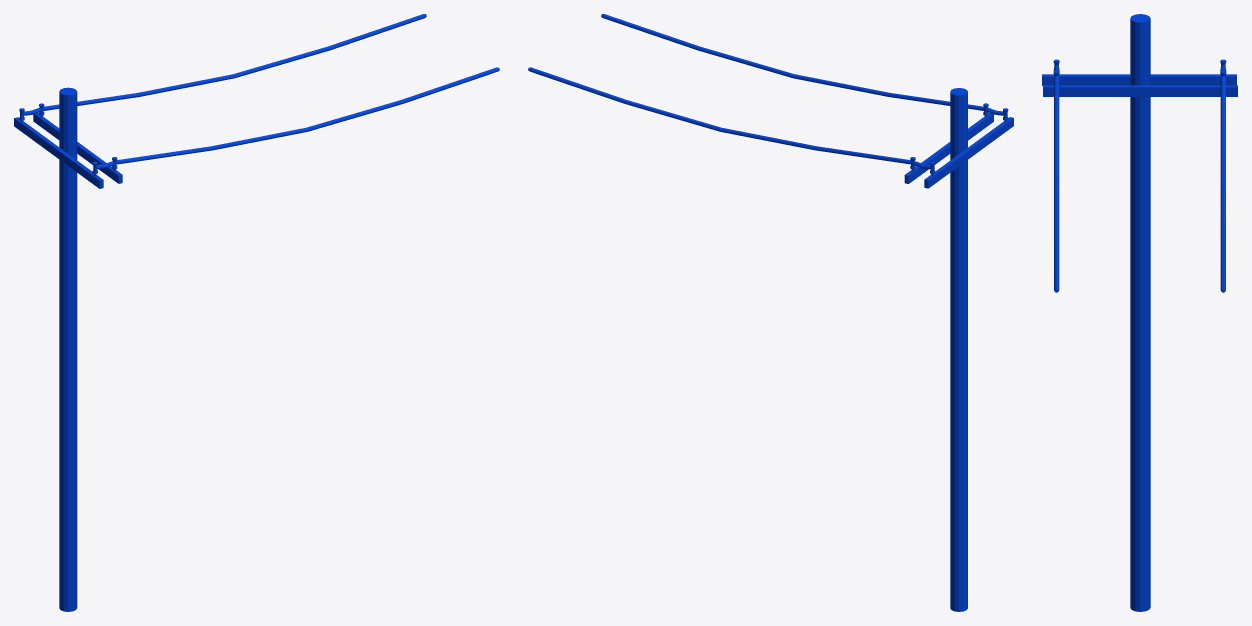
The model's file is Envi_TelePole_wWire_v02.fbx.
3 renders of one model, left to right at view 1: azimuth 30°, elevation 25°; view 2: azimuth 150°, elevation 25°; view 3: azimuth 270°, elevation 25°, orthographic. The views are drawn at different scales.
Visible parts, largest first — view 1: Truck_Ex_Set01_Telephone_Pole1, Truck_Ex_Set01_Wire_01, Truck_Ex_Set01_Wire_02, Truck_Ex_Set01_Telephone_Pole_Plank_2, Truck_Ex_Set01_Telephone_Pole_Plank_1; view 2: Truck_Ex_Set01_Telephone_Pole1, Truck_Ex_Set01_Wire_02, Truck_Ex_Set01_Wire_01, Truck_Ex_Set01_Telephone_Pole_Plank_2, Truck_Ex_Set01_Telephone_Pole_Plank_1; view 3: Truck_Ex_Set01_Telephone_Pole1, Truck_Ex_Set01_Telephone_Pole_Plank_1, Truck_Ex_Set01_Telephone_Pole_Plank_2, Truck_Ex_Set01_Wire_02, Truck_Ex_Set01_Wire_01.
Part boxes in pixels (x1,y1,x2,y2): Truck_Ex_Set01_Telephone_Pole1: (59, 87, 77, 611); Truck_Ex_Set01_Wire_01: (116, 67, 499, 164); Truck_Ex_Set01_Wire_02: (43, 14, 426, 110); Truck_Ex_Set01_Telephone_Pole_Plank_2: (14, 117, 103, 188); Truck_Ex_Set01_Telephone_Pole_Plank_1: (33, 113, 122, 183); Truck_Ex_Set01_Telephone_Pole1: (950, 88, 967, 611); Truck_Ex_Set01_Wire_02: (528, 67, 911, 164); Truck_Ex_Set01_Wire_01: (601, 14, 984, 110); Truck_Ex_Set01_Telephone_Pole_Plank_2: (924, 117, 1013, 188); Truck_Ex_Set01_Telephone_Pole_Plank_1: (904, 113, 993, 183); Truck_Ex_Set01_Telephone_Pole1: (1130, 14, 1150, 611); Truck_Ex_Set01_Telephone_Pole_Plank_1: (1043, 85, 1237, 96); Truck_Ex_Set01_Telephone_Pole_Plank_2: (1042, 74, 1236, 85); Truck_Ex_Set01_Wire_02: (1220, 76, 1225, 292); Truck_Ex_Set01_Wire_01: (1054, 76, 1059, 292).
Size of the model in its own units: 206 by 250 by 75.32.
